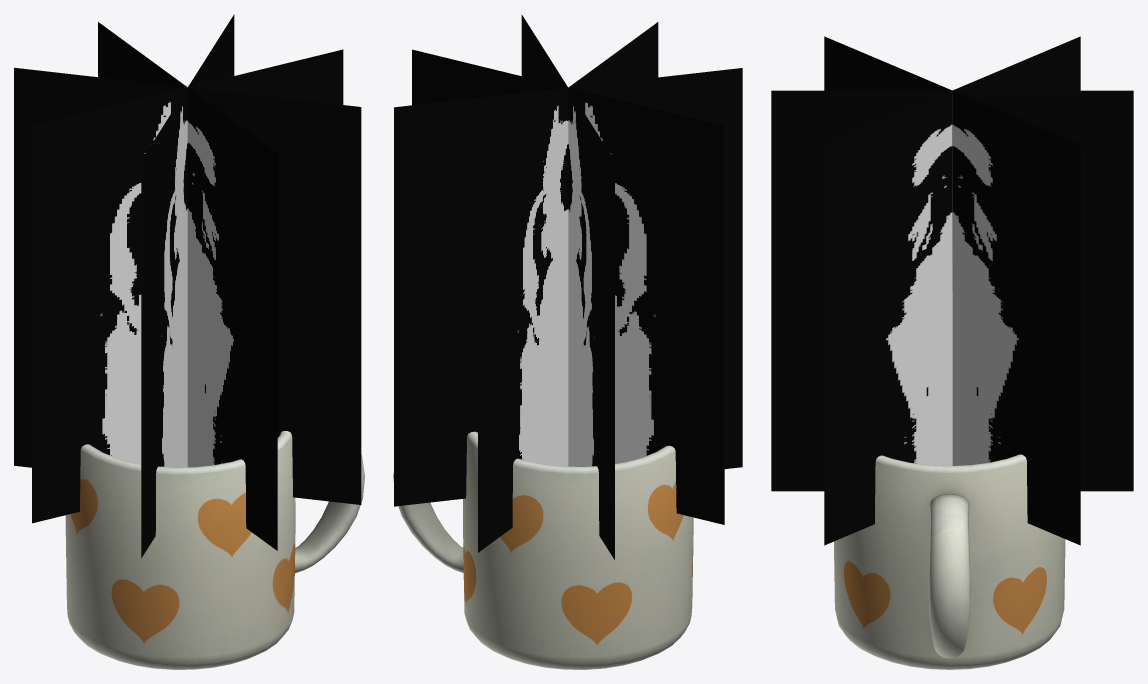
The model's file is cup_with_hot_drink.glb.
3 renders of one model, left to right at view 1: azimuth 30°, elevation 25°; view 2: azimuth 150°, elevation 25°; view 3: azimuth 270°, elevation 25°, orthographic.
Parts seen in each view (by area): view 1: _exportCopy_MugSteam.002, _exportCopy_MugSteam.001, _exportCopy_Mug, _exportCopy_MugSteam, _exportCopy_MugSteam.003; view 2: _exportCopy_MugSteam.003, _exportCopy_MugSteam.001, _exportCopy_Mug, _exportCopy_MugSteam, _exportCopy_MugSteam.002; view 3: _exportCopy_MugSteam.003, _exportCopy_MugSteam.002, _exportCopy_MugSteam, _exportCopy_Mug.
Part boxes in pixels (box(x1,y1,x2,y2)): _exportCopy_MugSteam.002: box(14, 67, 361, 504); _exportCopy_MugSteam.001: box(32, 49, 343, 523); _exportCopy_Mug: box(65, 431, 364, 669); _exportCopy_MugSteam: box(98, 22, 277, 550); _exportCopy_MugSteam.003: box(141, 14, 234, 557); _exportCopy_MugSteam.003: box(394, 68, 742, 506); _exportCopy_MugSteam.001: box(412, 49, 724, 524); _exportCopy_Mug: box(393, 431, 693, 669); _exportCopy_MugSteam: box(478, 22, 658, 552); _exportCopy_MugSteam.002: box(521, 14, 614, 559); _exportCopy_MugSteam.003: box(824, 36, 1080, 545); _exportCopy_MugSteam.002: box(824, 36, 1080, 545); _exportCopy_MugSteam: box(771, 90, 1133, 491); _exportCopy_Mug: box(834, 454, 1065, 669).
Bounding box in the file's own units: 1.56 × 2.44 × 1.48.
3 materials, 2 textured.
